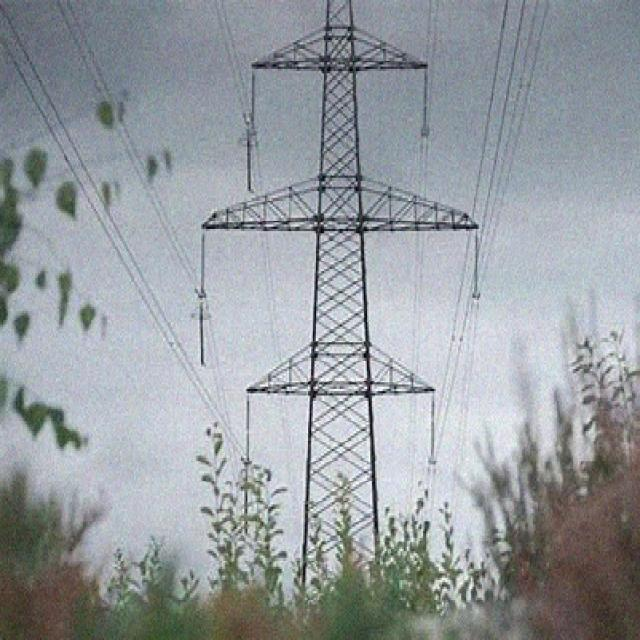utility poles: (200, 352, 478, 639)
